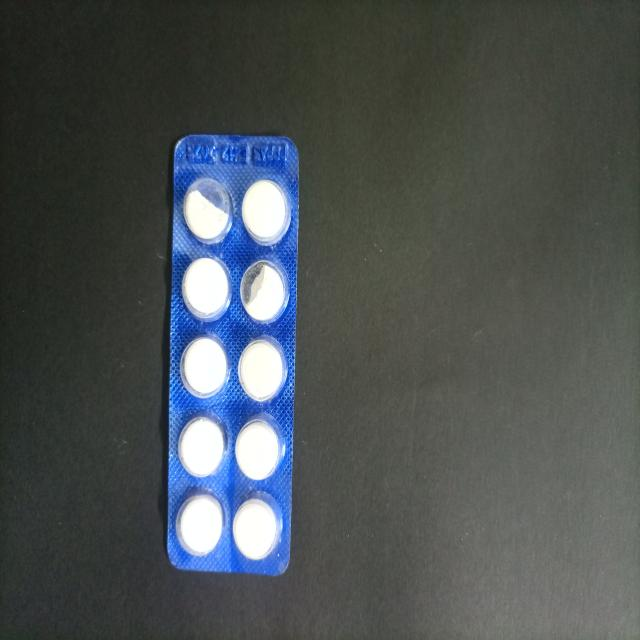defect: (181, 175, 237, 248), (239, 255, 293, 329)
